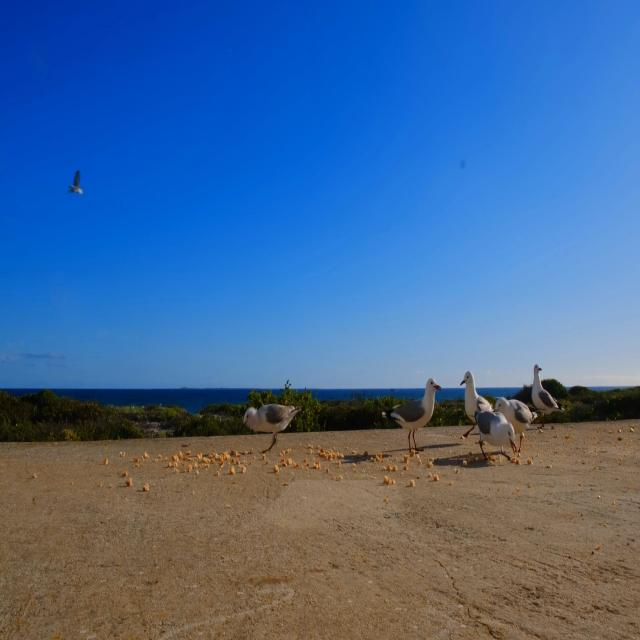bird: (375, 369, 447, 456), (522, 344, 568, 440), (468, 401, 522, 470), (235, 395, 301, 449), (487, 387, 543, 448), (453, 364, 490, 434), (67, 164, 87, 203)
